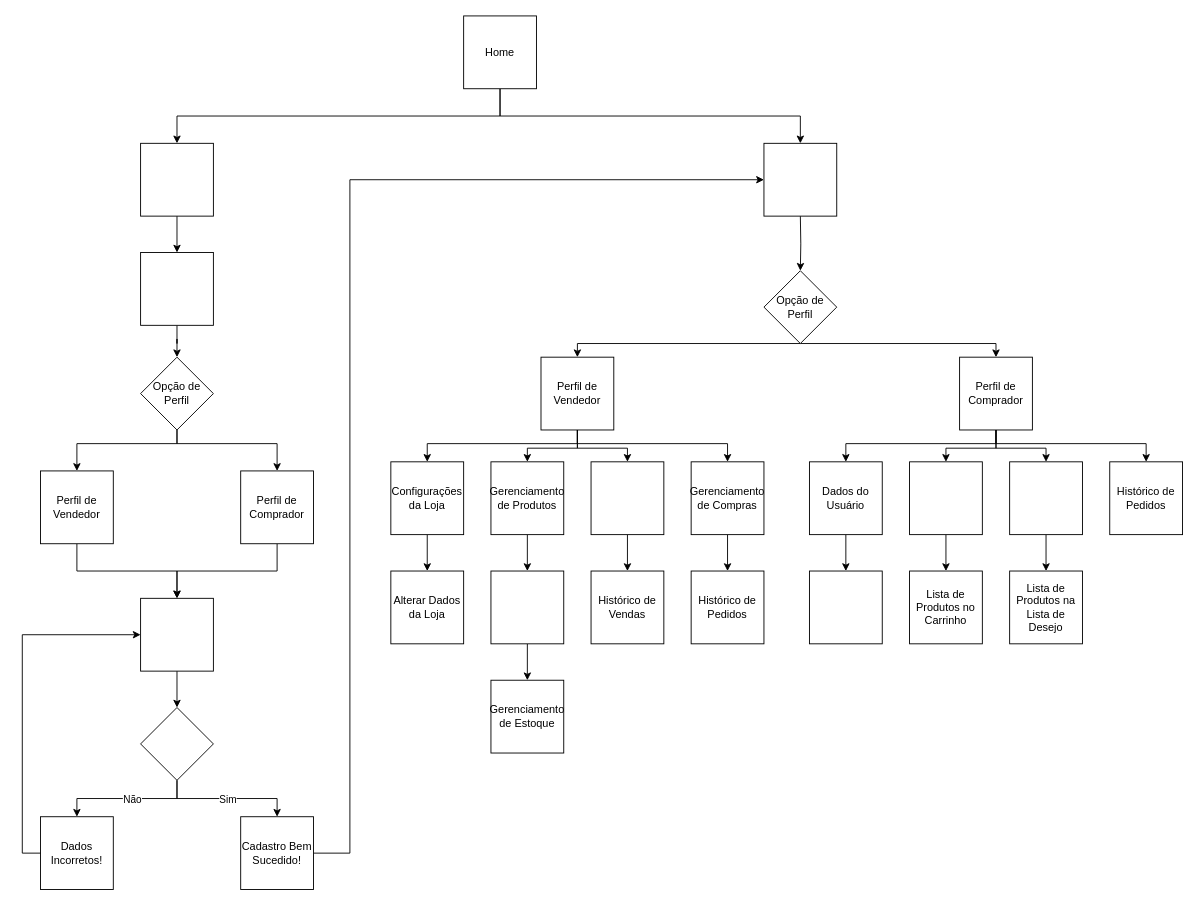
The diagram is 1198 pixels wide and 905 high, and some of its shapes have lost their labels. The centre of each missing label's shape, as x and y in pixels:
"Alterar Dados do Usuário" belongs at point (845, 607).
"Cadastro" belongs at point (176, 179).
"Carrinho" belongs at point (945, 498).
"Criação de Perfil" belongs at point (176, 288).
"Gerenciamento de Vendas" belongs at point (627, 498).
"Lista de Desejo" belongs at point (1045, 498).
"Lista de Produtos" belongs at point (527, 607).
"Login" belongs at point (800, 179).
"Preenchimento dos Dados" belongs at point (176, 634).
"Se Dados Completos" belongs at point (176, 743).
